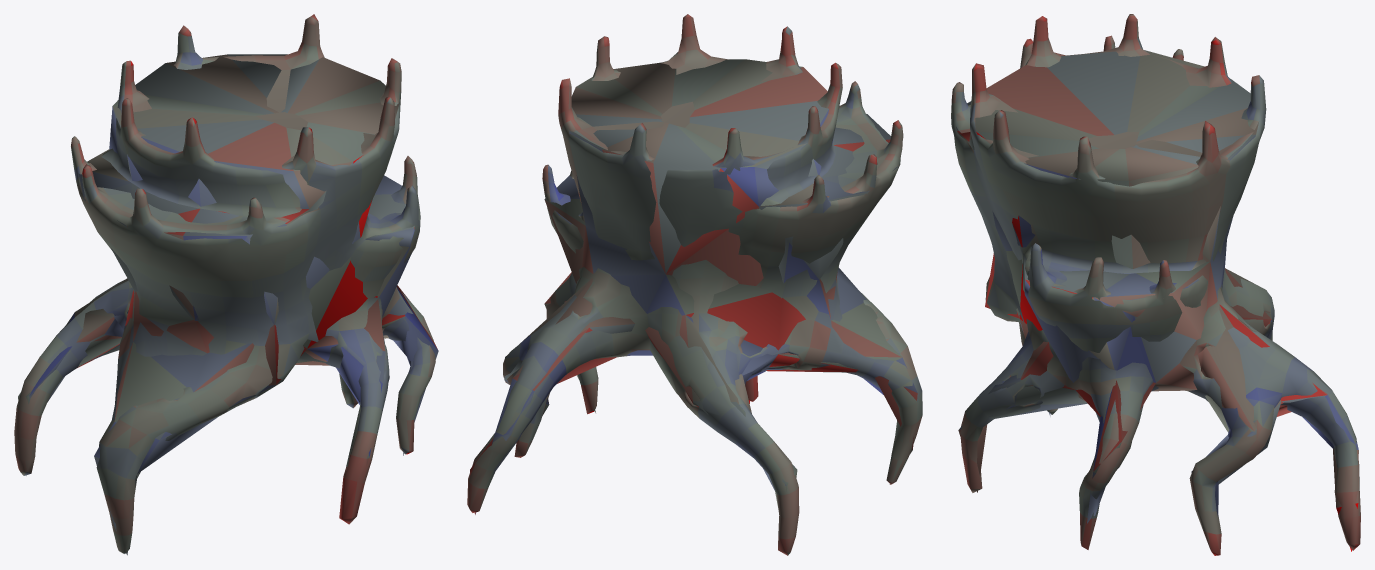
The model's file is fungusMed01.fbx.
The picture shows the model from 3 angles, left to right: view 1: azimuth 30°, elevation 25°; view 2: azimuth 150°, elevation 25°; view 3: azimuth 270°, elevation 25°; orthographic projection. The views are drawn at different scales.
Parts seen in each view (by area): view 1: fungusMed01_LOD0, fungusMed01_COL; view 2: fungusMed01_LOD0, fungusMed01_COL; view 3: fungusMed01_LOD0, fungusMed01_COL.
Part boxes in pixels (x1,y1,x2,y2): fungusMed01_LOD0: [14, 14, 435, 553]; fungusMed01_COL: [18, 54, 438, 555]; fungusMed01_LOD0: [467, 14, 922, 555]; fungusMed01_COL: [470, 59, 917, 514]; fungusMed01_LOD0: [951, 14, 1360, 555]; fungusMed01_COL: [956, 50, 1358, 551].
Size of what is drawn, in the model's own units: 6.44 by 7.21 by 6.2.
